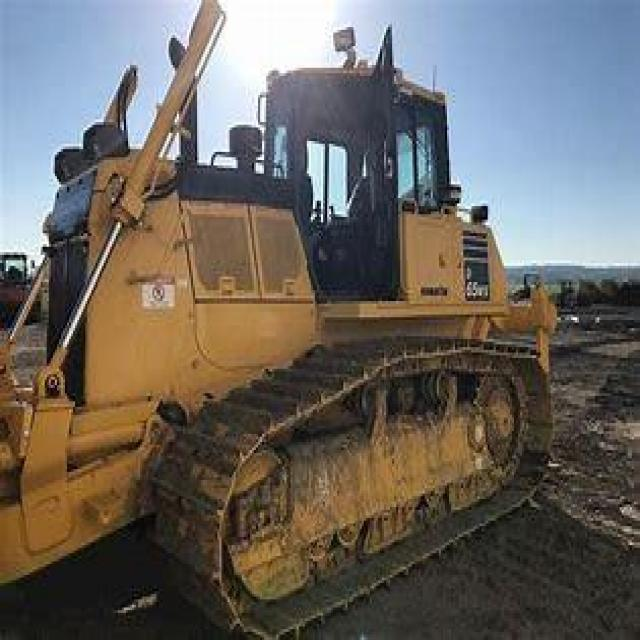Bulldozer: (8, 2, 583, 634)
